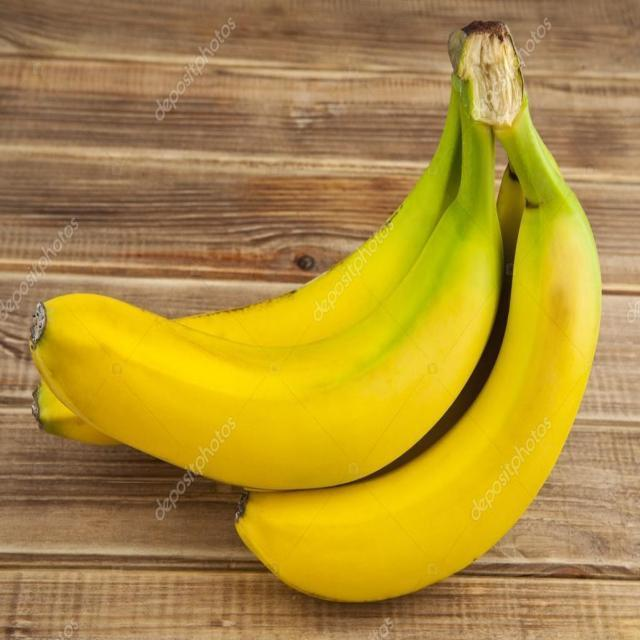Banana: (22, 12, 608, 611)
